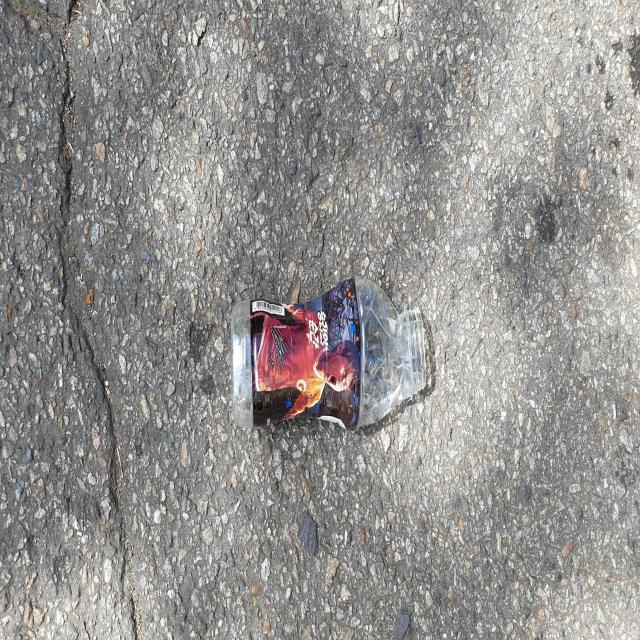plastic: (231, 277, 429, 429)
